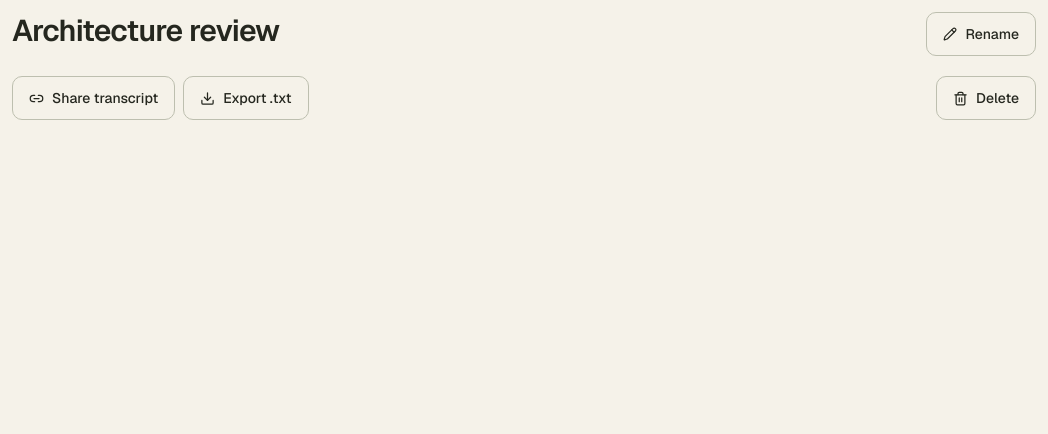
saved transcript actions › does not create a share link when opening options and supports manual copy after clipboard failure
The image size is (1048, 434).
Click the button "Share transcript". click: x=94, y=98
box: [12,76,175,120]
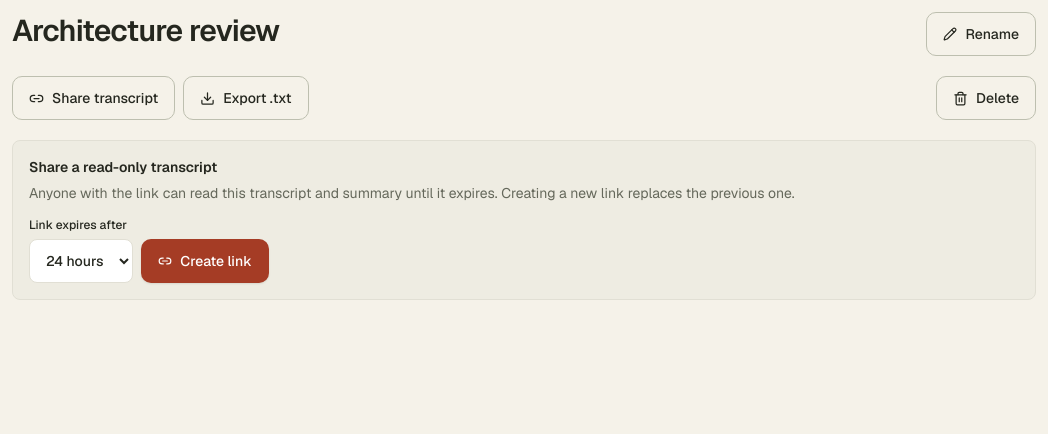
Select "7 days" in the dropdown labelled "Link expires after". click: x=81, y=261
box: [29,239,133,283]
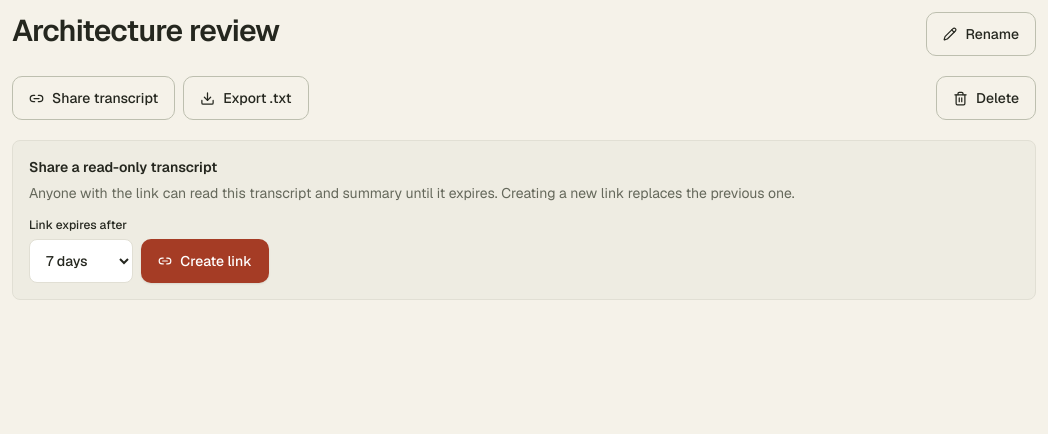
Click the button "Create link". click: x=205, y=261
box: [141,239,269,283]
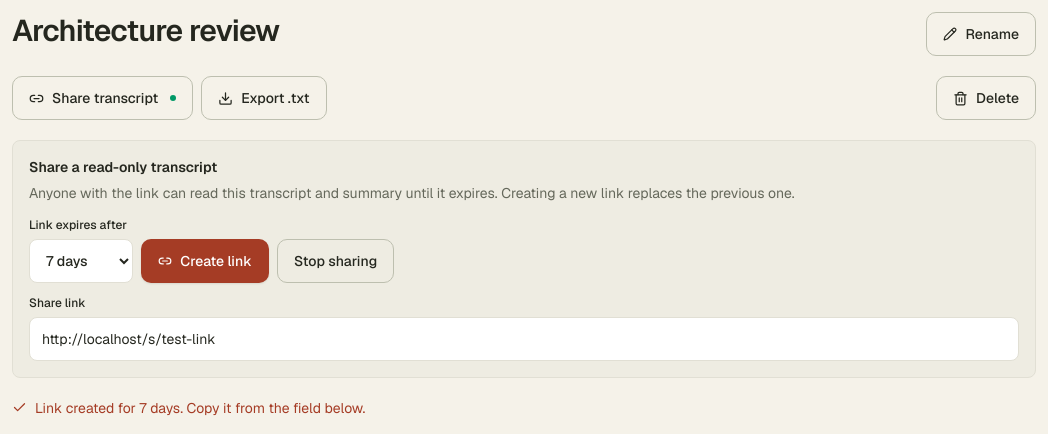
Now the message shows "Copy it from the field", box [35,399,365,417]
Now the button "Stop sharing" is shown, box [277,239,394,283]
